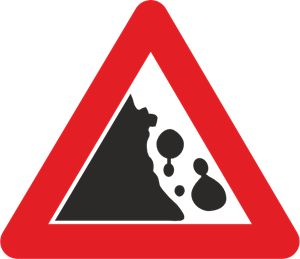FallenSign: (2, 2, 300, 259)
